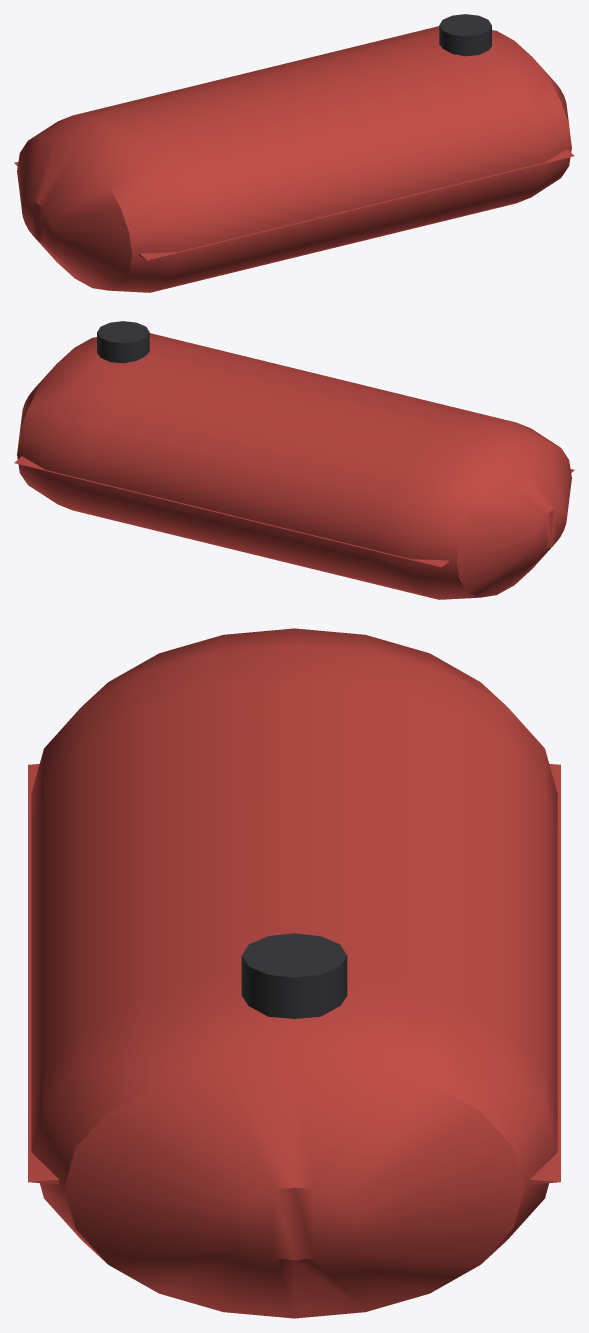
Rendered from bladder.glb.
The picture shows the model from 3 angles, top to bottom: view 1: azimuth 30°, elevation 25°; view 2: azimuth 150°, elevation 25°; view 3: azimuth 270°, elevation 25°; orthographic projection. The views are drawn at different scales.
Visible parts, largest first — view 1: lod0; view 2: lod0; view 3: lod0.
Boxes of the visible parts, box(x1,y1,x2,y2) form: lod0: box(14, 14, 574, 292); lod0: box(14, 321, 574, 599); lod0: box(28, 628, 560, 1318).
Size of what is drawn, in the model's own units: 0.36 by 0.112 by 0.162.
